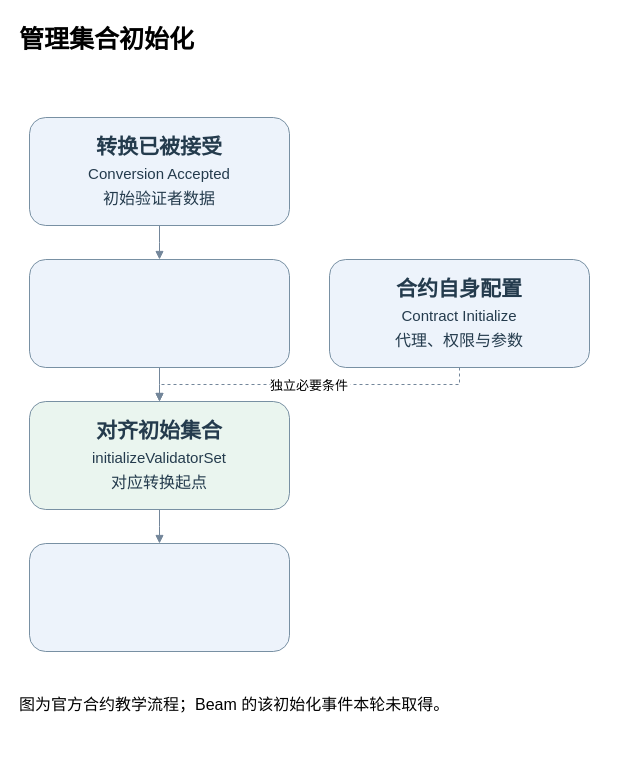
Image size: 618x775. Some labels were removed from this diagram. The centre of each missing label's shape, as x and y in pixels:
"取得转换证明 Conversion Message P-Chain 认证" goes at (x=159, y=313).
"后续成员管理 Further Management 初始 PoA 有特殊规则" goes at (x=159, y=597).
